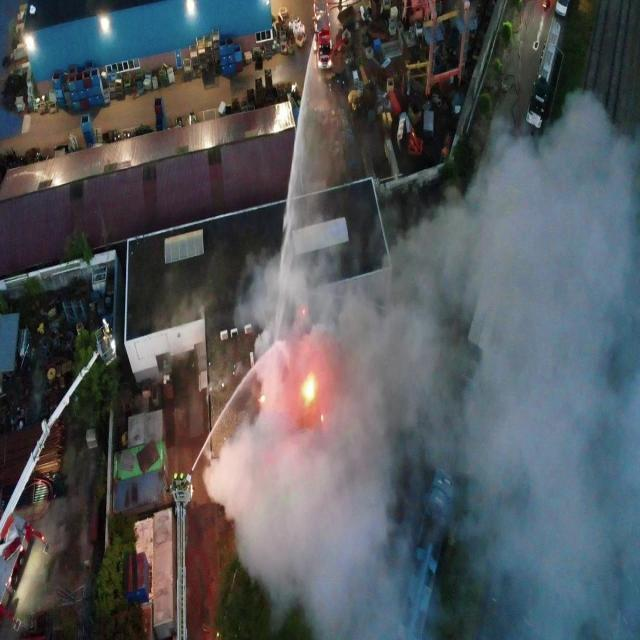Fire: (300, 372, 318, 402), (258, 395, 264, 403), (321, 414, 324, 423)
Smoke: (200, 86, 640, 640)
